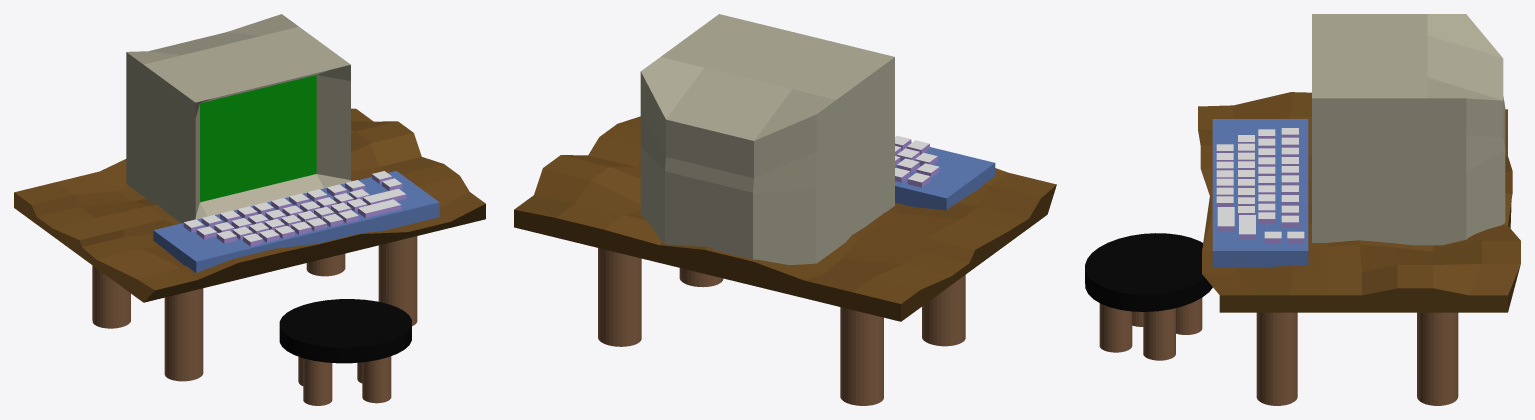
Rendered from Computer.fbx.
3 renders of one model, left to right at view 1: azimuth 30°, elevation 25°; view 2: azimuth 150°, elevation 25°; view 3: azimuth 270°, elevation 25°, orthographic. The views are drawn at different scales.
Parts seen in each view (by area): view 1: Monitor, DeskTop, StoolTop, Keyboard, deskLeg3, deskLeg2, deskLeg4, stoolLeg3, stoolLeg2, deskLeg1, Backspace, Enter; view 2: Monitor, DeskTop, deskLeg4, deskLeg1, Keyboard, deskLeg3, deskLeg2; view 3: Monitor, DeskTop, StoolTop, Keyboard, deskLeg2, deskLeg1, stoolLeg1, stoolLeg2, stoolLeg4, Backspace, Enter.
Part boxes in pixels (x1=…): Monitor: x1=126, y1=14, x2=350, y2=223; DeskTop: x1=14, y1=108, x2=485, y2=302; StoolTop: x1=279, y1=299, x2=411, y2=363; Keyboard: x1=153, y1=171, x2=439, y2=272; deskLeg3: x1=164, y1=288, x2=203, y2=381; deskLeg2: x1=378, y1=236, x2=417, y2=325; deskLeg4: x1=92, y1=265, x2=130, y2=328; stoolLeg3: x1=303, y1=358, x2=332, y2=405; stoolLeg2: x1=362, y1=356, x2=391, y2=403; deskLeg1: x1=306, y1=253, x2=345, y2=276; Backspace: x1=358, y1=199, x2=401, y2=217; Enter: x1=363, y1=188, x2=406, y2=205; Monitor: x1=640, y1=14, x2=894, y2=265; DeskTop: x1=514, y1=116, x2=1056, y2=321; deskLeg4: x1=840, y1=307, x2=883, y2=405; deskLeg1: x1=598, y1=248, x2=641, y2=346; Keyboard: x1=895, y1=142, x2=995, y2=210; deskLeg3: x1=922, y1=275, x2=965, y2=346; deskLeg2: x1=679, y1=268, x2=723, y2=287; Monitor: x1=1312, y1=14, x2=1505, y2=245; DeskTop: x1=1198, y1=92, x2=1520, y2=312; StoolTop: x1=1085, y1=233, x2=1212, y2=311; Keyboard: x1=1212, y1=119, x2=1308, y2=267; deskLeg2: x1=1256, y1=312, x2=1297, y2=405; deskLeg1: x1=1417, y1=312, x2=1458, y2=405; stoolLeg1: x1=1143, y1=308, x2=1175, y2=360; stoolLeg2: x1=1099, y1=303, x2=1132, y2=352; stoolLeg4: x1=1176, y1=298, x2=1202, y2=334; Backspace: x1=1217, y1=207, x2=1234, y2=231; Enter: x1=1239, y1=215, x2=1255, y2=239.
Bounding box in the file's own units: 1403 × 926 × 1301.
